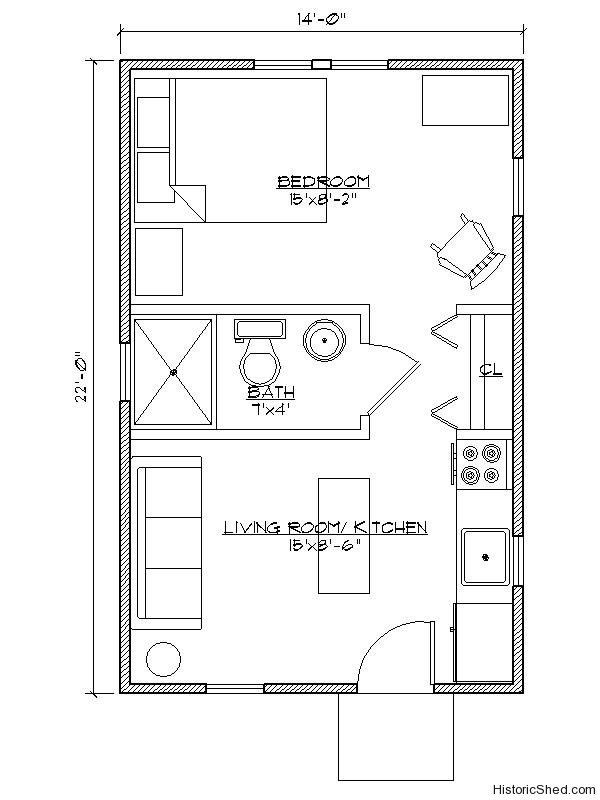door: (359, 616, 436, 698)
room: (131, 73, 522, 435), (116, 425, 526, 692)
wall: (111, 407, 141, 692), (505, 213, 530, 534), (111, 61, 133, 340), (386, 51, 526, 76), (114, 55, 253, 78), (505, 53, 532, 161), (116, 672, 213, 702), (506, 589, 531, 694), (434, 673, 527, 698), (265, 679, 365, 698)
window: (253, 56, 393, 76), (208, 681, 261, 701), (511, 159, 528, 217), (508, 536, 527, 581), (115, 347, 128, 400)
